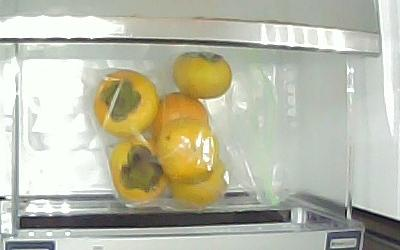persimmon_vinyl: (93, 70, 159, 138), (156, 118, 220, 185), (107, 140, 169, 203), (167, 159, 225, 208), (172, 53, 233, 99), (153, 93, 210, 140)
